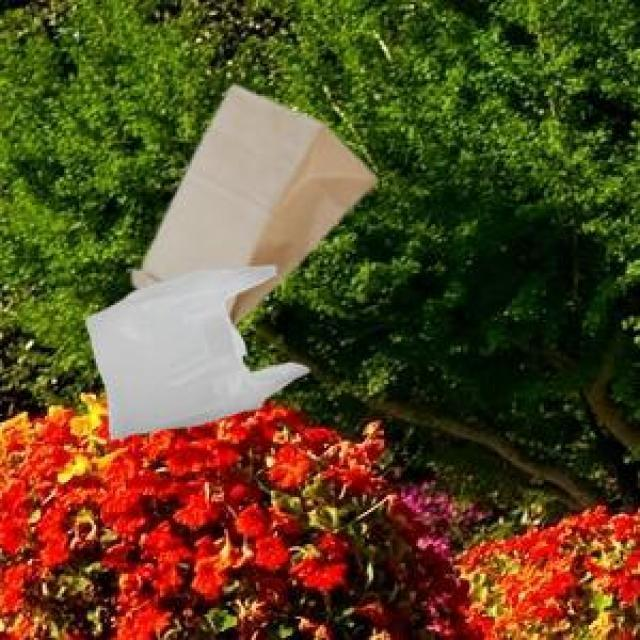paper: (128, 81, 373, 320)
